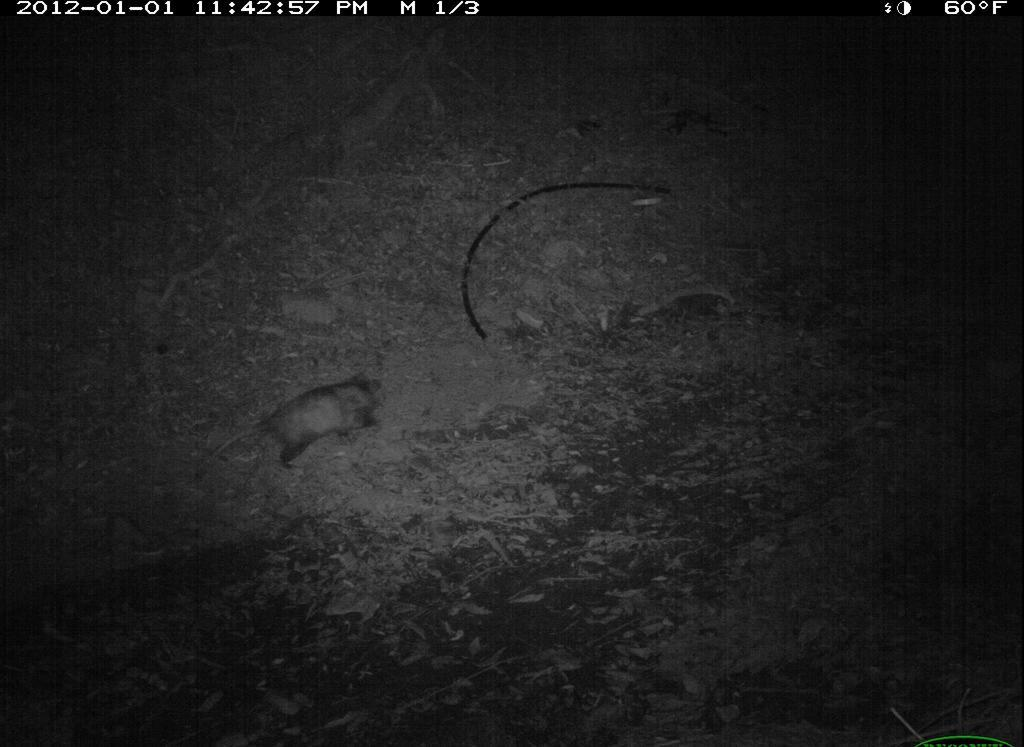opossum: (190, 376, 397, 491)
